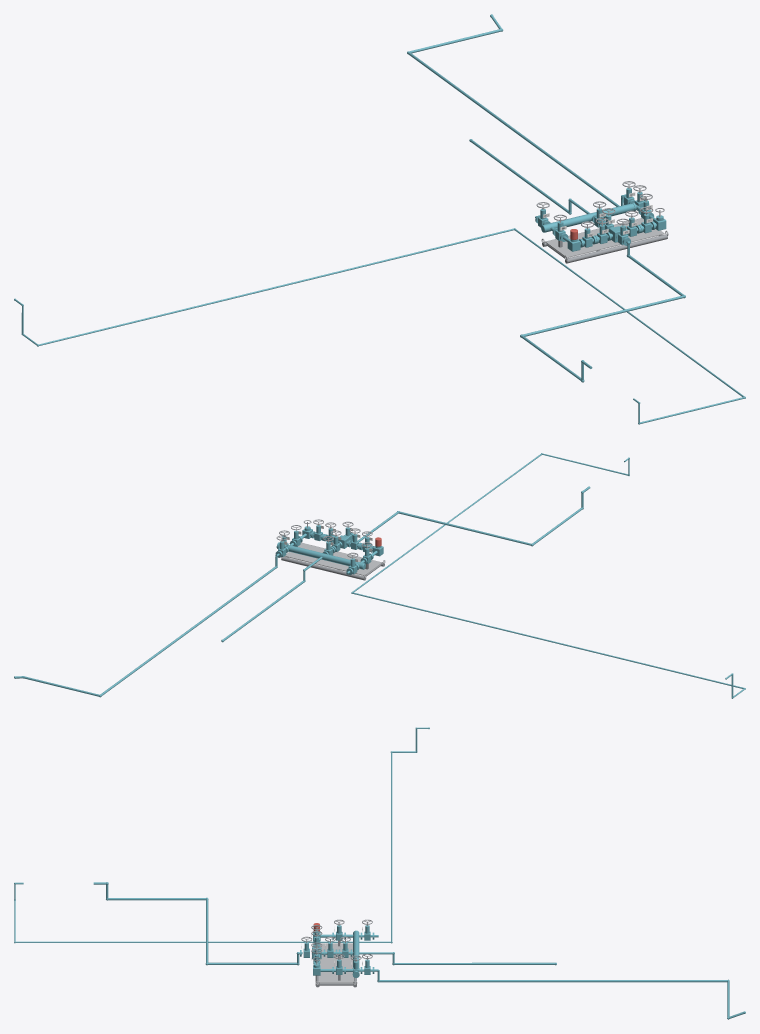
Rendered from sk575_manifold.glb.
3 renders of one model, top to bottom at view 1: azimuth 30°, elevation 25°; view 2: azimuth 150°, elevation 25°; view 3: azimuth 270°, elevation 25°, orthographic. The views are drawn at different scales.
Visible parts, largest first — view 1: sk575_manifold_azul, sk575_manifold_acero_oscuro, sk575_manifold_grating; view 2: sk575_manifold_azul, sk575_manifold_acero_oscuro, sk575_manifold_grating; view 3: sk575_manifold_azul, sk575_manifold_grating, sk575_manifold_acero_oscuro.
Boxes of the visible parts, bbox=[...] form: sk575_manifold_azul: bbox=[14, 14, 745, 424]; sk575_manifold_acero_oscuro: bbox=[536, 181, 667, 263]; sk575_manifold_grating: bbox=[545, 218, 664, 257]; sk575_manifold_azul: bbox=[14, 453, 745, 698]; sk575_manifold_acero_oscuro: bbox=[276, 519, 384, 580]; sk575_manifold_grating: bbox=[284, 543, 381, 575]; sk575_manifold_azul: bbox=[14, 727, 745, 1019]; sk575_manifold_grating: bbox=[319, 943, 353, 983]; sk575_manifold_acero_oscuro: bbox=[301, 919, 372, 987].
Bounding box in the file's own units: 25.44 × 1.26 × 29.34.
